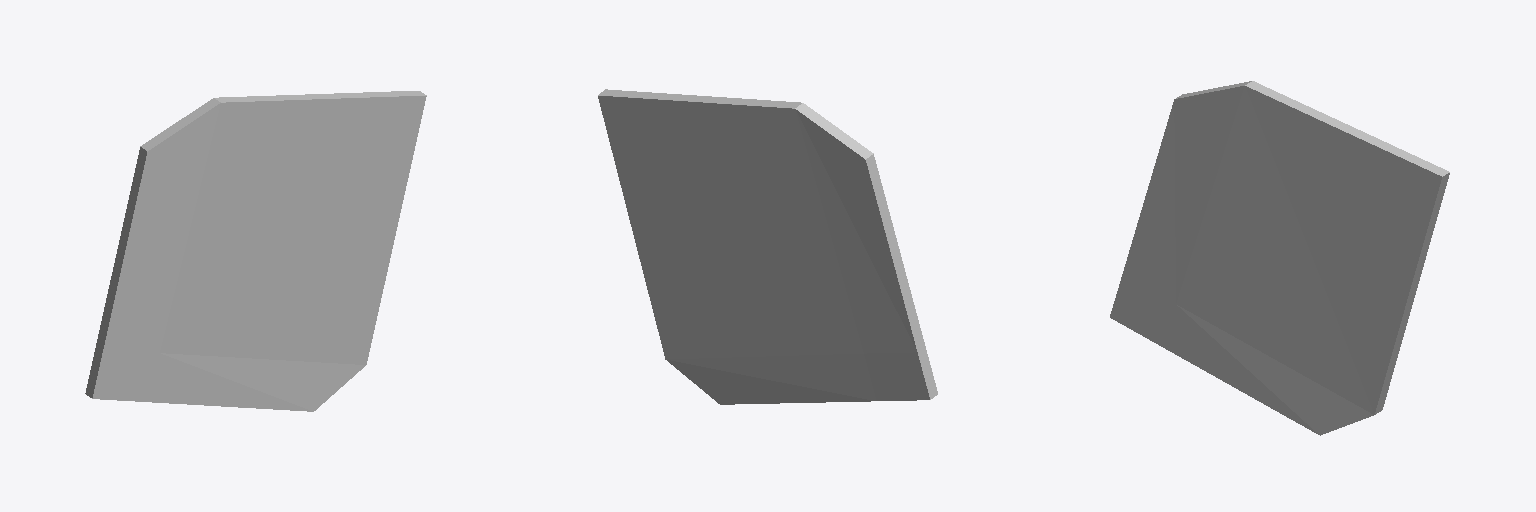
The model's file is PlacasFlutuantes.obj.
3 views of the same model, side by side, from view 1: azimuth 30°, elevation 25°; view 2: azimuth 150°, elevation 25°; view 3: azimuth 330°, elevation 25° (orthographic).
Parts seen in each view (by area): view 1: Cube; view 2: Cube; view 3: Cube.
Part boxes in pixels (left/top/right/bottom): Cube: left=85, top=91, right=426, bottom=411; Cube: left=598, top=89, right=937, bottom=404; Cube: left=1110, top=81, right=1449, bottom=435.
Bounding box in the file's own units: 18.87 × 17.48 × 1.76.